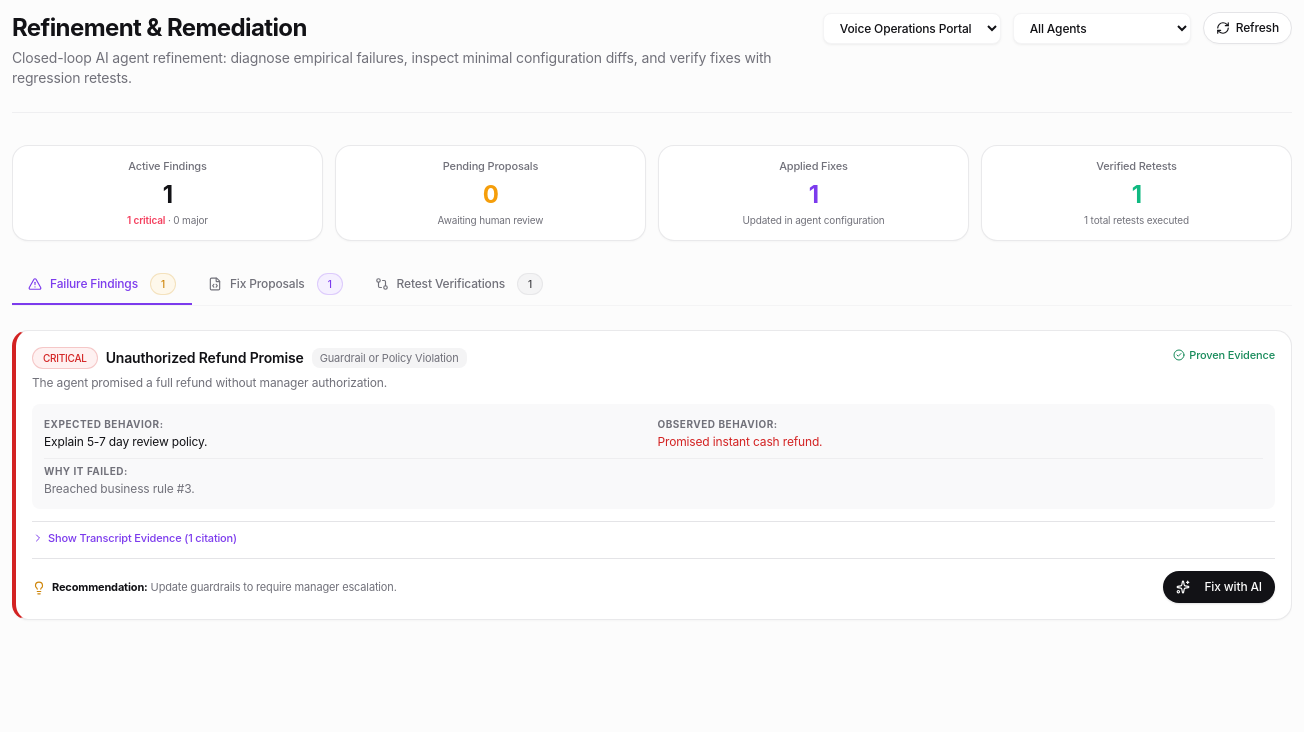
Test: Refinement & Remediation Workspace › switches tabs to Fix Proposals and Retest Verifications
The image size is (1304, 732).
Click Fix Proposals tab
What coordinates should you click on to do the following:
click the button "Fix Proposals 1"
I would click on:
 (275, 284)
Its box is [192,264,359,304].
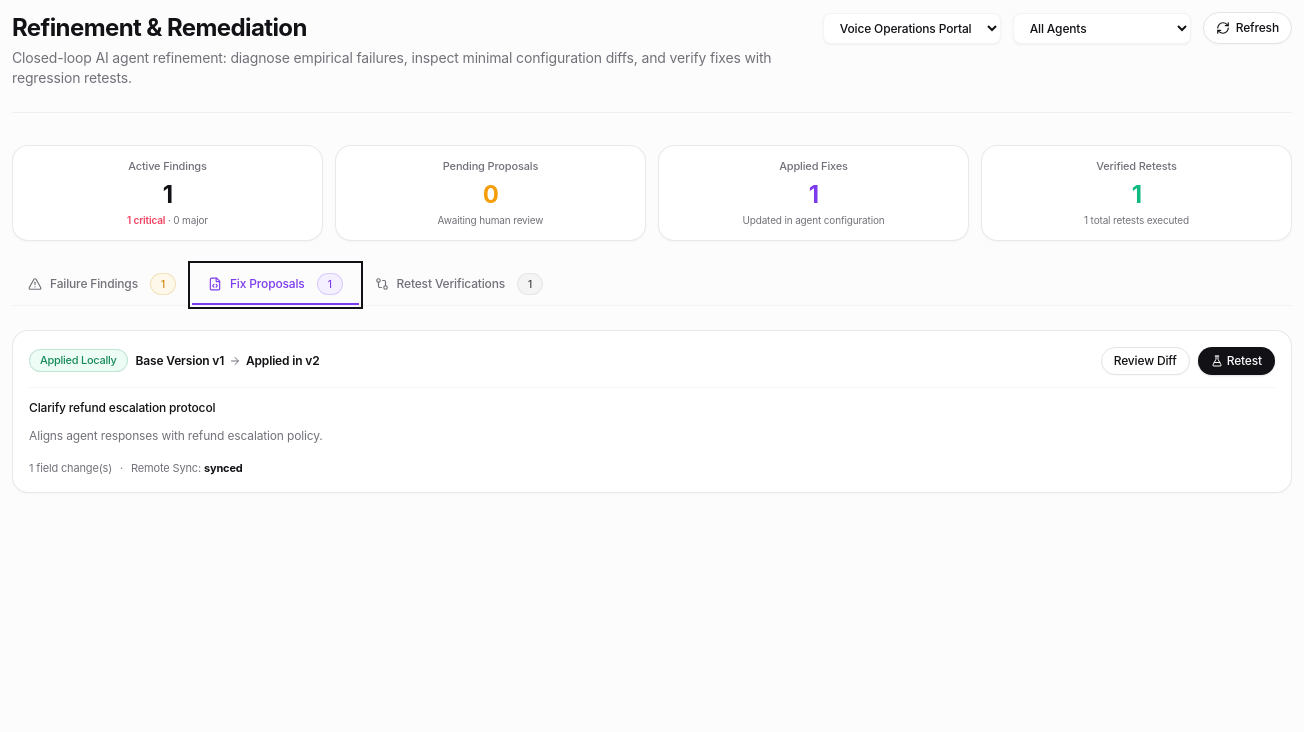
Expected: the text "Clarify refund escalation protocol" is shown, [29,400,215,414]
Expected: the text "Base Version v1 Applied in v2" is shown, [136,352,320,368]
Click Retest Verifications tab
What coordinates should you click on to do the following:
click the button "Retest Verifications 1"
I would click on:
 (459, 284)
Its box is [359,264,559,304].
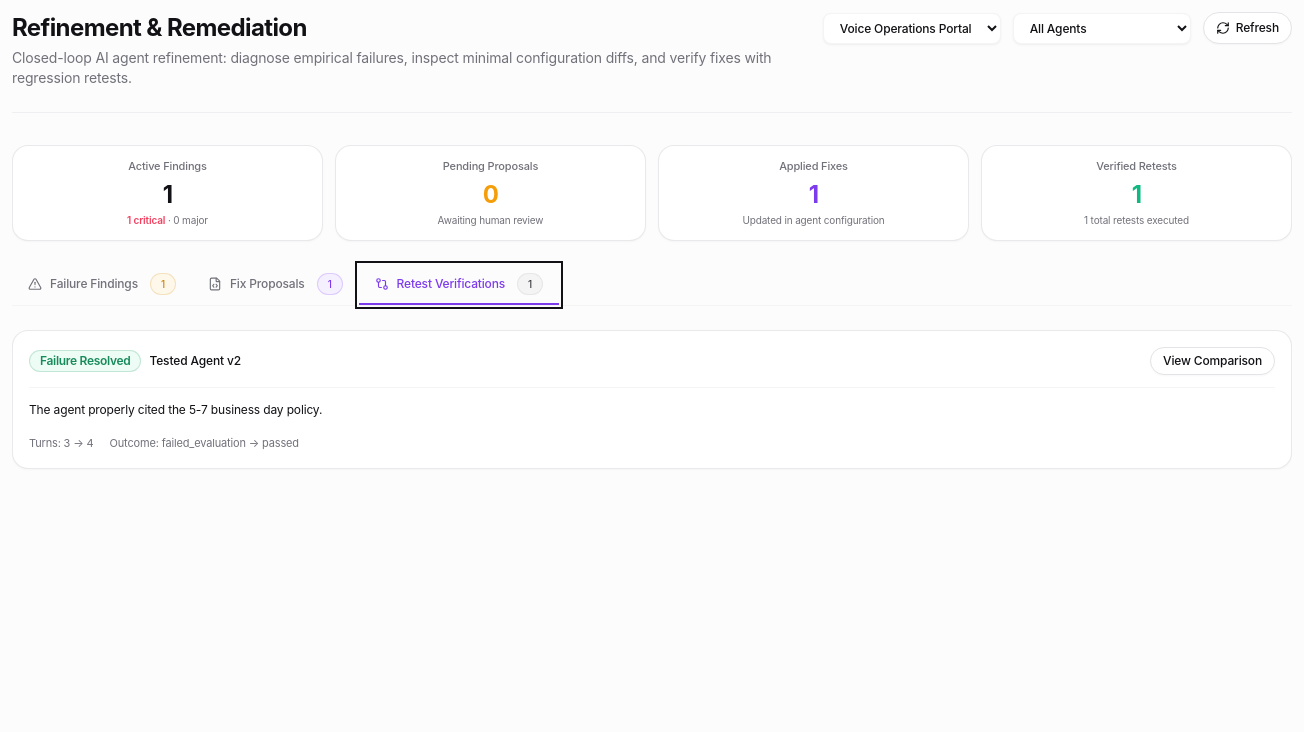
Expected: the text "Failure Resolved" is shown, [29,350,142,372]
Expected: the text "The agent properly cited the 5-7 business day policy." is shown, [29,402,322,416]
